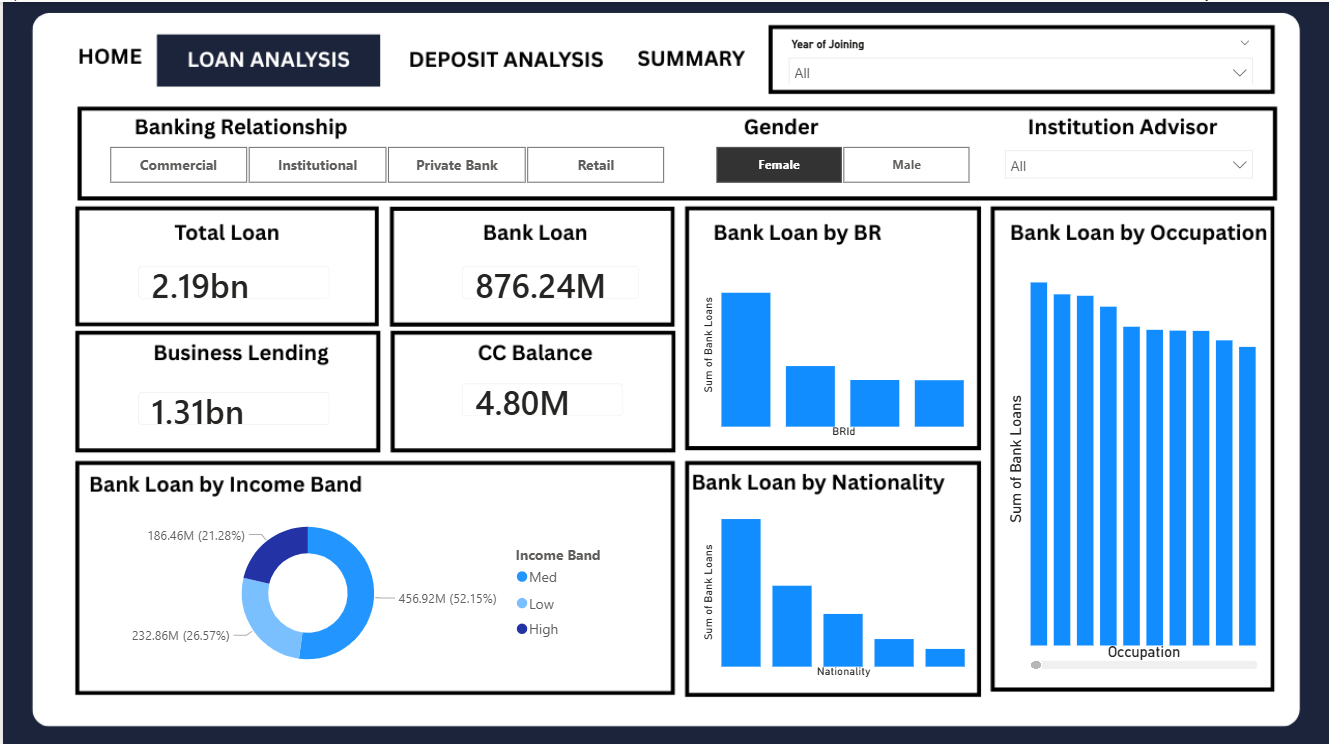

Layout of this report page (visuals, bound fields, positions):
{"tool":"powerbi","page":{"name":"Loan Analysis","canvas":[1280,720],"ordinal":1},"visuals":[{"type":"slicer","fields":{"Values":["Banking_Clients.Year of Joining"]},"box":[748,29,468.1,50.7],"z":0},{"type":"actionButton","box":[53.1,33.8,100.1,39.8],"z":1000},{"type":"actionButton","box":[153.2,33.8,209.9,45.8],"z":2000},{"type":"actionButton","box":[387.3,35,195.4,39.8],"z":3000},{"type":"actionButton","box":[599.6,35,125.5,35],"z":4000},{"type":"cardVisual","fields":{"Data":["Banking_Clients.Total Loan"]},"box":[113.4,237.7,219.6,66.4],"z":5000},{"type":"cardVisual","fields":{"Data":["Sum(Banking_Clients.Bank Loans)"]},"box":[425.9,237.7,205.1,66.4],"z":6000},{"type":"cardVisual","fields":{"Data":["Sum(Banking_Clients.Business Lending)"]},"box":[113.4,359.5,219.6,66.4],"z":7000},{"type":"cardVisual","fields":{"Data":["Sum(Banking_Clients.Credit Card Balance)"]},"box":[425.9,351.1,190.6,66.4],"z":8000},{"type":"donutChart","fields":{"Category":["Banking_Clients.Income Band"],"Y":["Sum(Banking_Clients.Bank Loans)"]},"box":[89.3,483.8,510.3,173.7],"z":9000},{"type":"clusteredColumnChart","fields":{"Category":["Banking_Clients.BRId"],"Y":["Sum(Banking_Clients.Bank Loans)"]},"box":[670.8,237.7,264.2,188.2],"z":10000},{"type":"clusteredColumnChart","fields":{"Category":["Banking_Clients.Nationality"],"Y":["Sum(Banking_Clients.Bank Loans)"]},"box":[670.8,483.8,264.2,173.7],"z":11000},{"type":"clusteredColumnChart","fields":{"Y":["Sum(Banking_Clients.Bank Loans)"],"Category":["Banking_Clients.Occupation"]},"box":[965.2,247.3,250.9,401.7],"z":12000},{"type":"slicer","fields":{"Values":["Banking_Clients.BRId"]},"box":[77.2,132.7,585.1,48.3],"z":13000},{"type":"slicer","fields":{"Values":["Banking_Clients.GenderId"]},"box":[662.3,132.7,294.4,48.3],"z":14000},{"type":"slicer","fields":{"Values":["Banking_Clients.IAId"]},"box":[956.7,132.7,259.4,48.3],"z":15000}]}

Visuals, with their boxes in screenshot pixels (x1, y1, x2, y2), scaled from the page's 1280x720 canvas onto the 1329x744 screenshot:
slicer - Banking_Clients.Year of Joining: 777,30,1263,82
actionButton: 55,35,159,76
actionButton: 159,35,377,82
actionButton: 402,36,605,77
actionButton: 623,36,753,72
cardVisual - Banking_Clients.Total Loan: 118,246,346,314
cardVisual - Sum(Banking_Clients.Bank Loans): 442,246,655,314
cardVisual - Sum(Banking_Clients.Business Lending): 118,371,346,440
cardVisual - Sum(Banking_Clients.Credit Card Balance): 442,363,640,431
donutChart - Banking_Clients.Income Band x Sum(Banking_Clients.Bank Loans): 93,500,623,679
clusteredColumnChart - Banking_Clients.BRId x Sum(Banking_Clients.Bank Loans): 696,246,971,440
clusteredColumnChart - Banking_Clients.Nationality x Sum(Banking_Clients.Bank Loans): 696,500,971,679
clusteredColumnChart - Sum(Banking_Clients.Bank Loans) x Banking_Clients.Occupation: 1002,256,1263,671
slicer - Banking_Clients.BRId: 80,137,688,187
slicer - Banking_Clients.GenderId: 688,137,993,187
slicer - Banking_Clients.IAId: 993,137,1263,187
